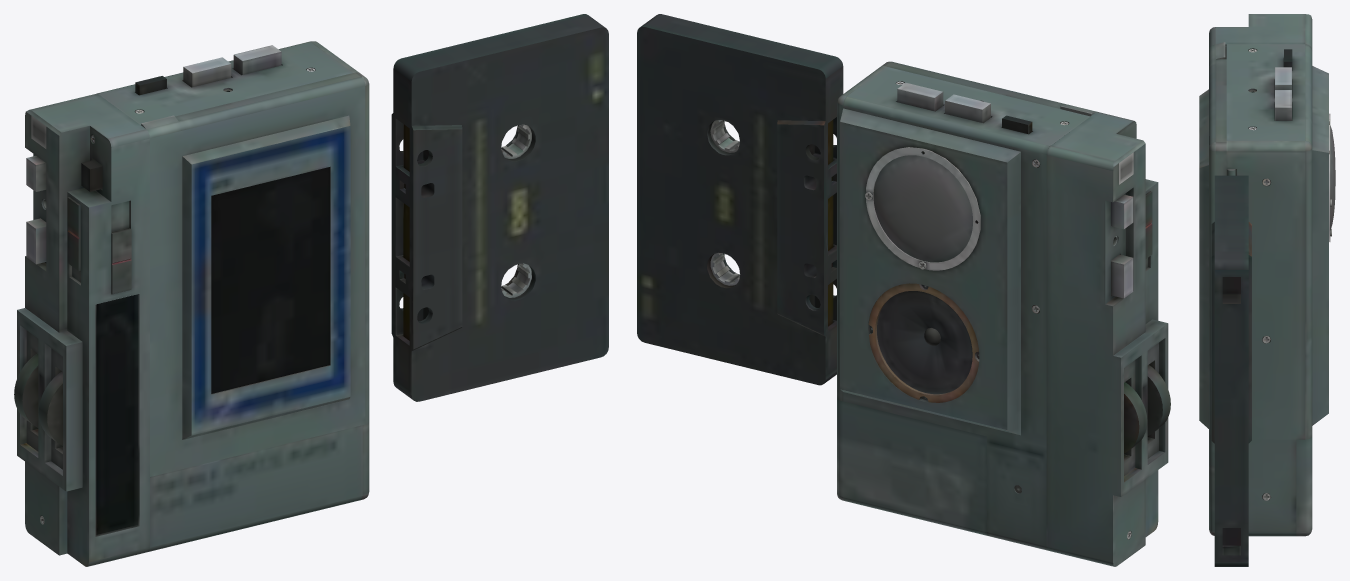
Rendered from portable_cassette_player.glb.
3 views of the same model, side by side, from view 1: azimuth 30°, elevation 25°; view 2: azimuth 150°, elevation 25°; view 3: azimuth 270°, elevation 25° (orthographic). The views are drawn at different scales.
Visible parts, largest first — view 1: portable_cassette_player_lid; view 2: portable_cassette_player_lid; view 3: portable_cassette_player_lid.
Part boxes in pixels (box(x1,y1,x2,y2)): portable_cassette_player_lid: box(14, 14, 608, 566); portable_cassette_player_lid: box(637, 14, 1170, 566); portable_cassette_player_lid: box(1199, 14, 1335, 566).
Bounding box in the file's own units: 0.1723 × 0.1303 × 0.0397.
2 materials, 2 textured.
